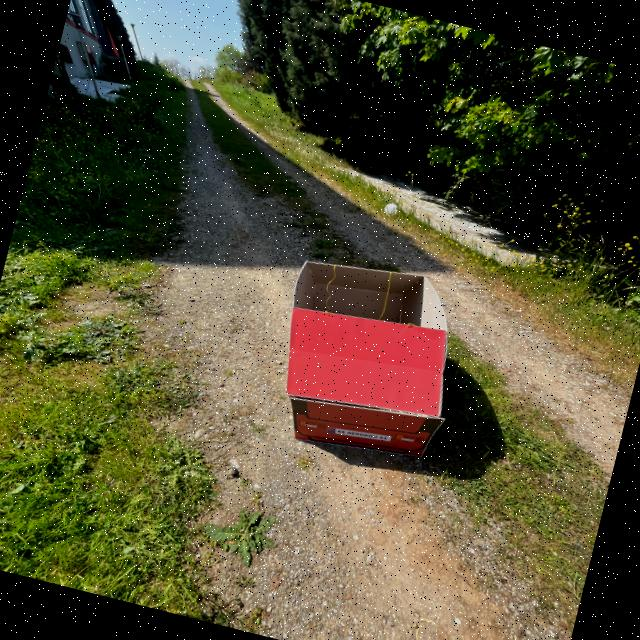red_car: (229, 230, 529, 496)
